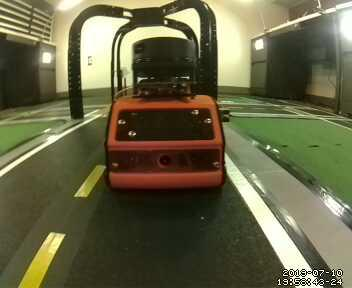pheeno: (105, 42, 229, 191)
